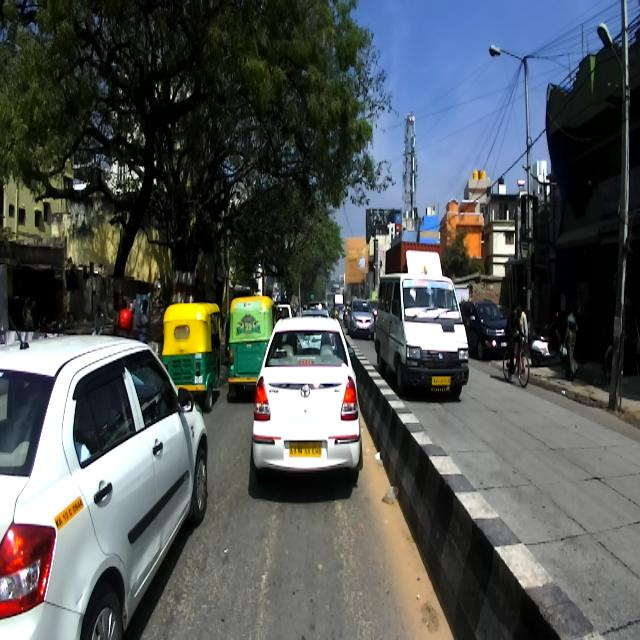car ahead at: (0, 333, 209, 640), (252, 315, 365, 491), (378, 274, 471, 401)
